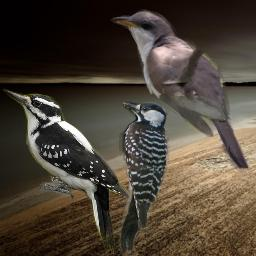Cuckoo: (109, 7, 249, 174)
Woodpecker: (2, 85, 131, 254), (117, 98, 171, 254)
